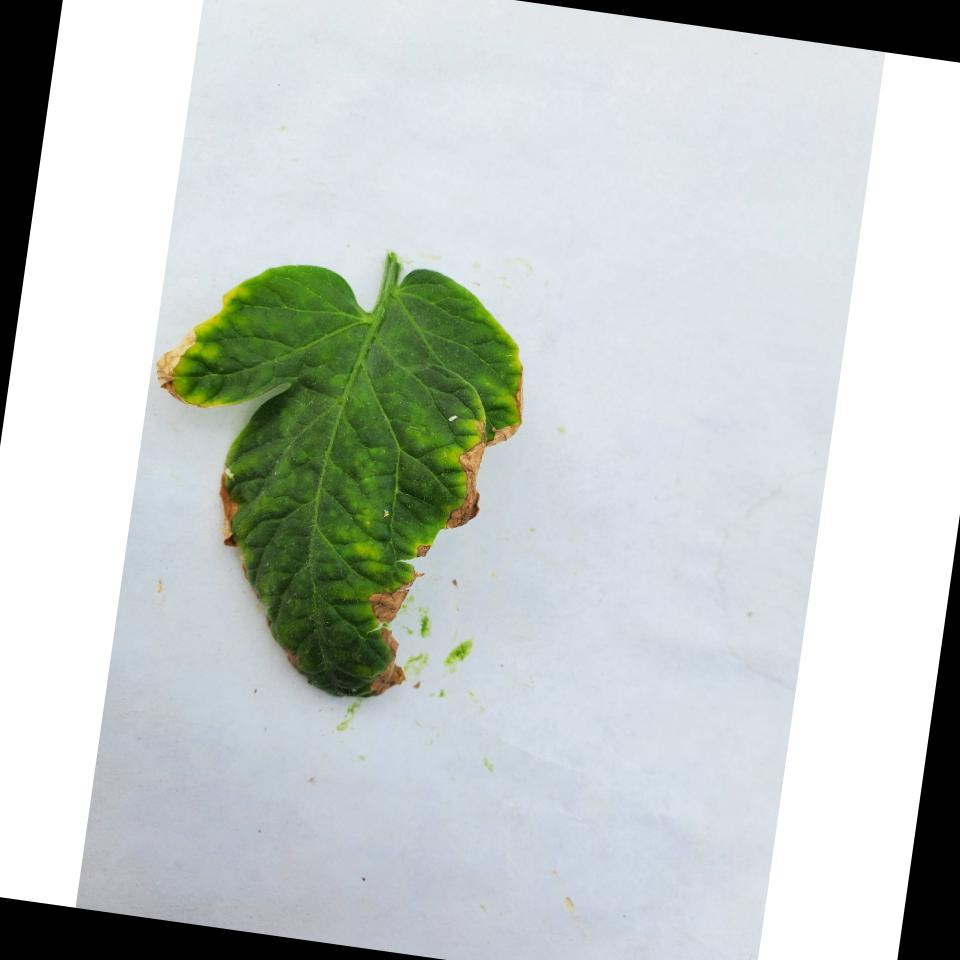tomato_bacterial_blight: (150, 213, 538, 719)
